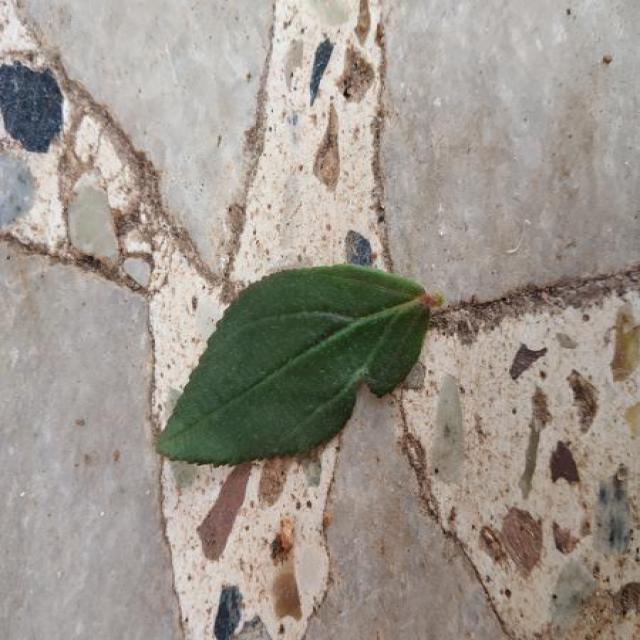Astma_weed: (158, 265, 440, 464)
